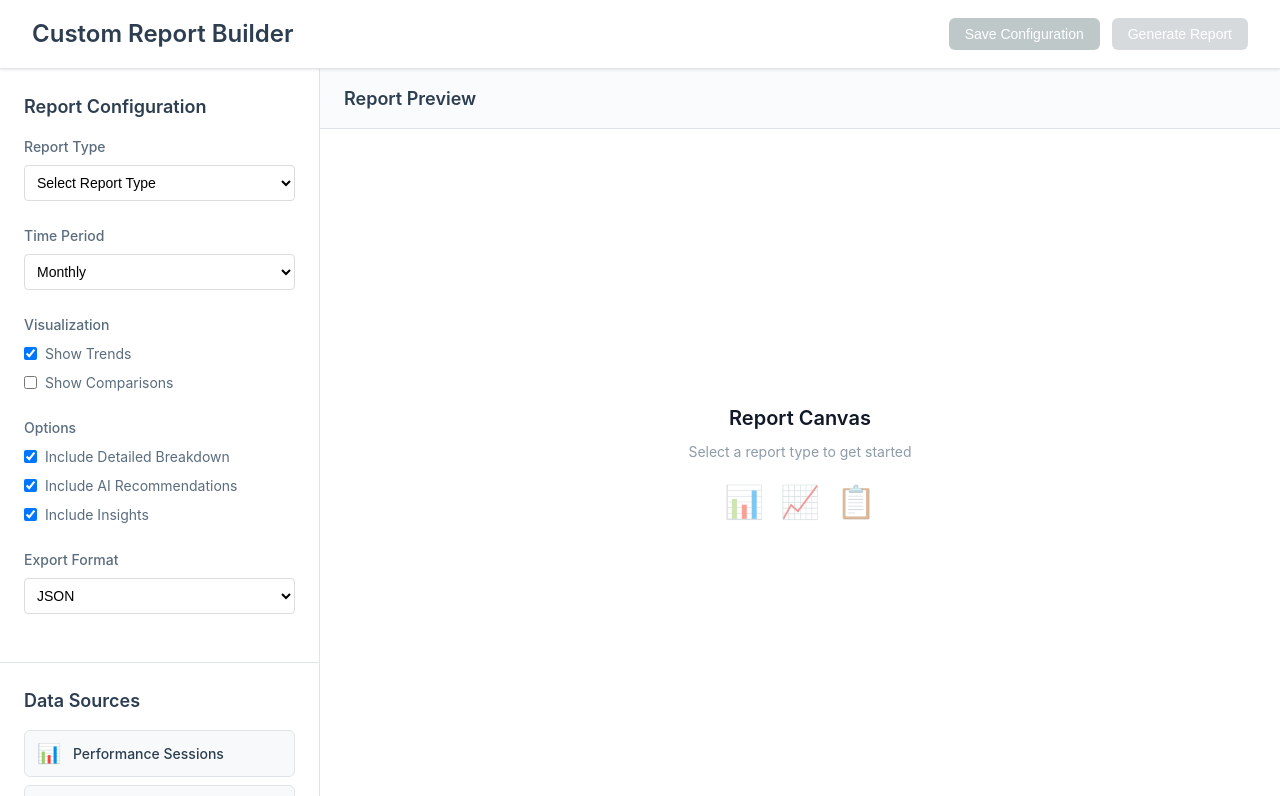
Scenario: ReportBuilder › shows report type badge when type is selected
Select "Performance Trends" in the dropdown showing "Select Report Type": (160, 183) x1=24 y1=165 x2=295 y2=201
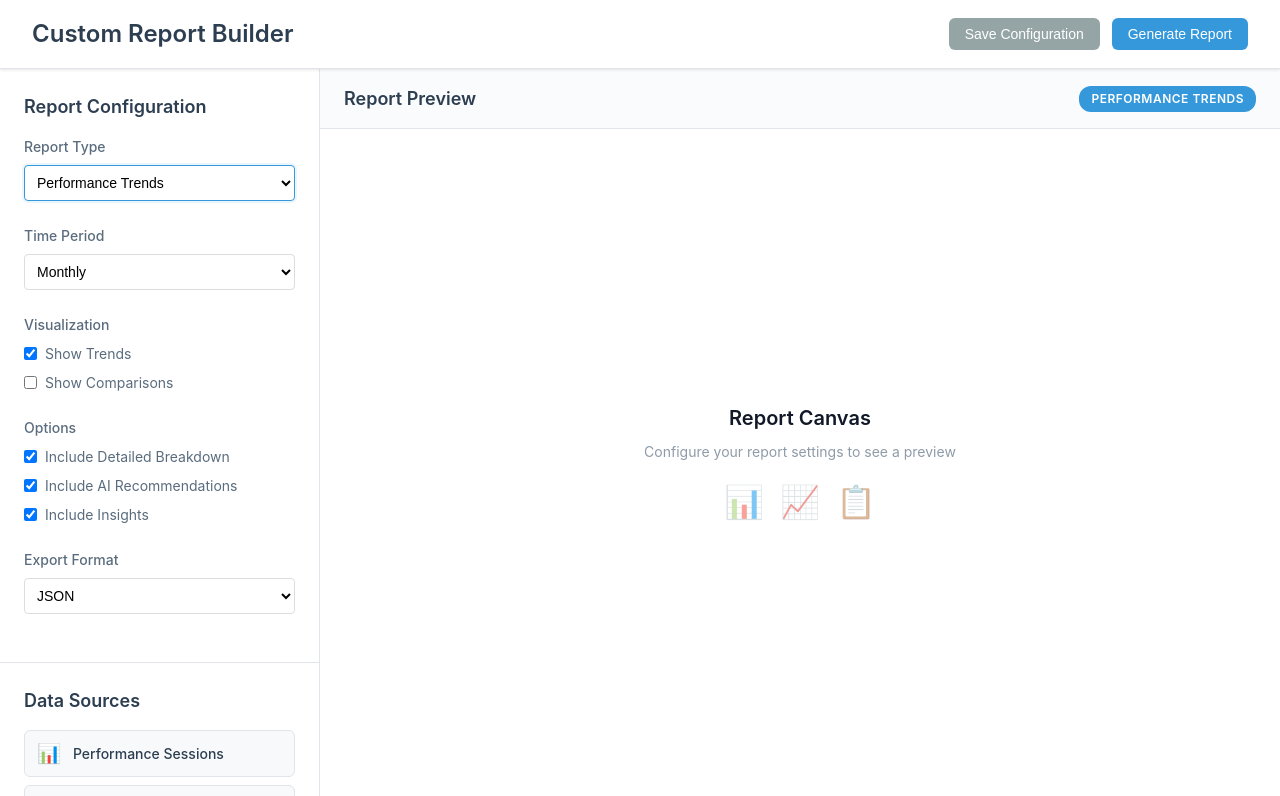
Expected: the text "PERFORMANCE TRENDS" is shown, x1=1079 y1=86 x2=1256 y2=112
